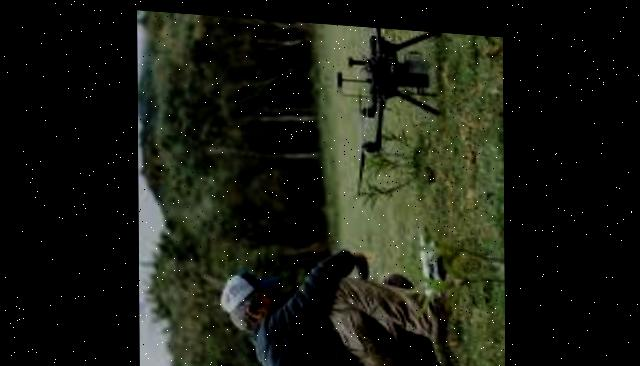drone: (336, 20, 449, 173)
